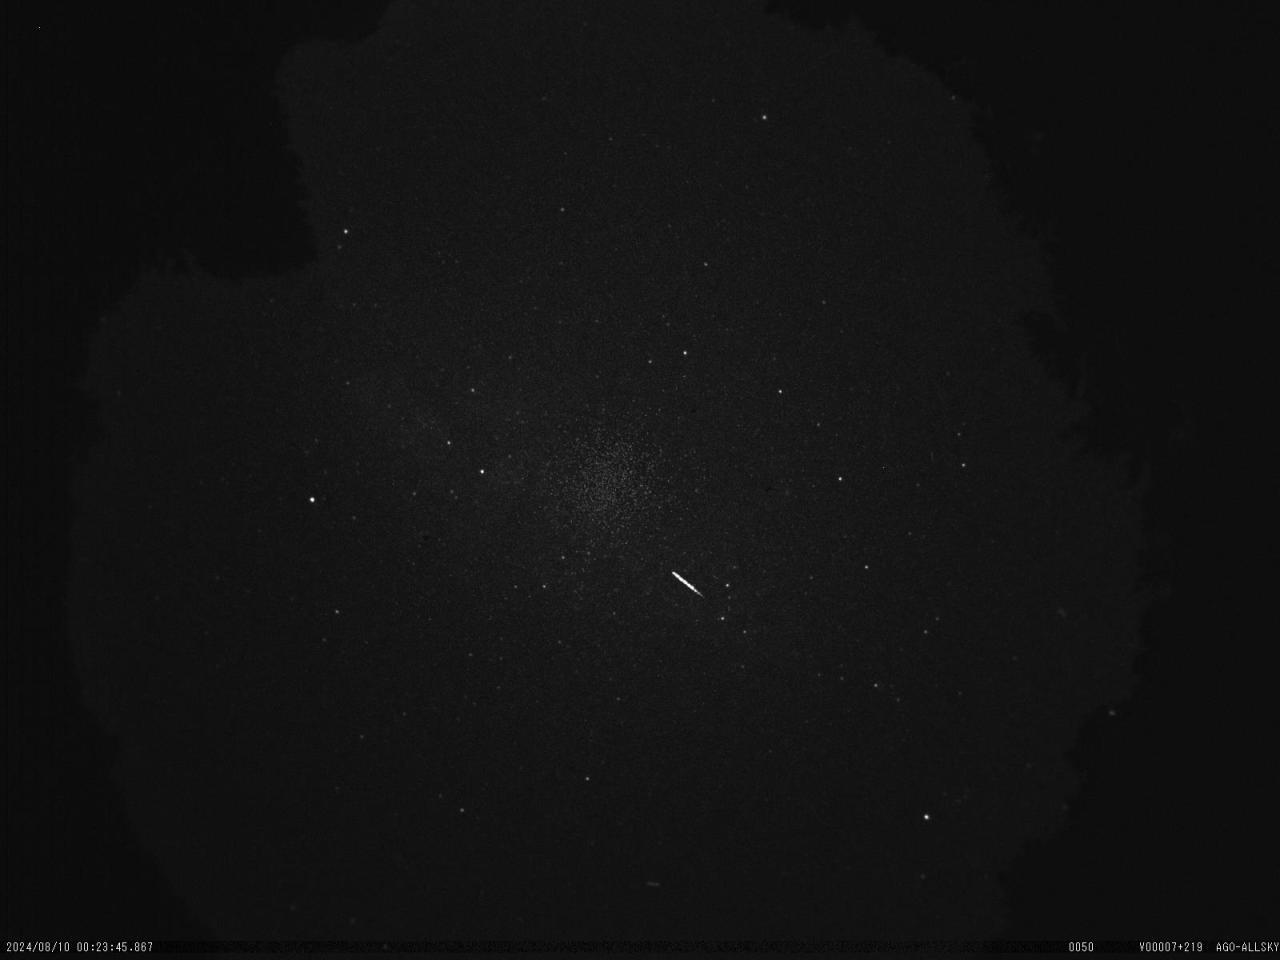Meteor: (669, 569, 705, 599)
